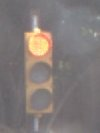Red: (23, 28, 57, 117)
